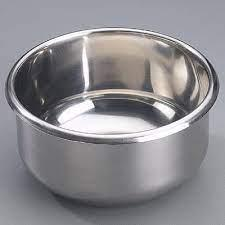Sponge Bowl: (3, 23, 221, 208)
